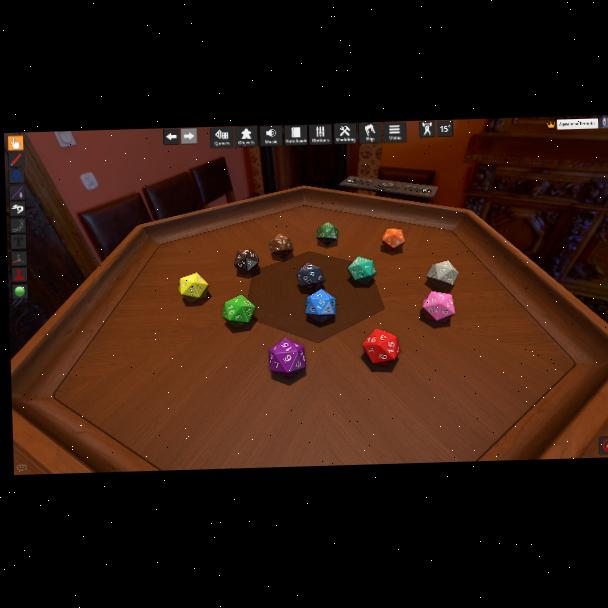d20: (267, 337, 306, 377), (362, 328, 400, 366), (223, 295, 256, 328), (421, 290, 453, 322), (306, 289, 335, 323), (426, 261, 457, 290), (347, 256, 375, 285), (180, 273, 210, 300), (296, 262, 323, 290), (233, 250, 259, 274), (270, 234, 293, 258), (382, 228, 405, 251), (316, 223, 337, 246)
